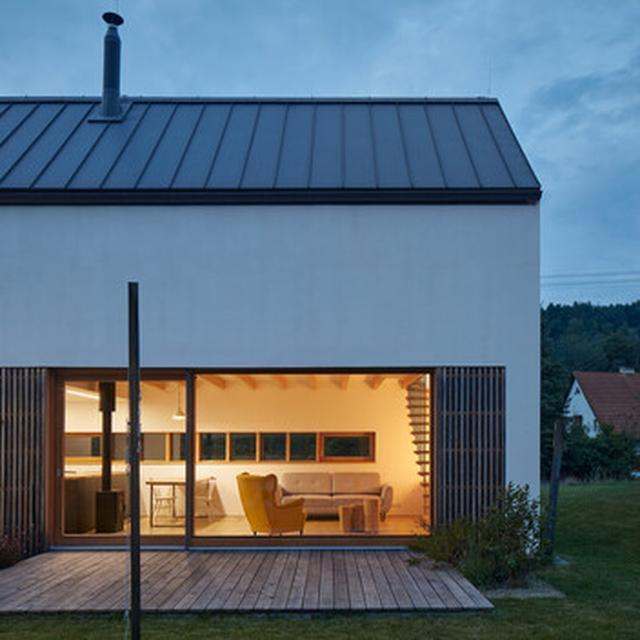building: (0, 94, 542, 610), (560, 366, 640, 484)
